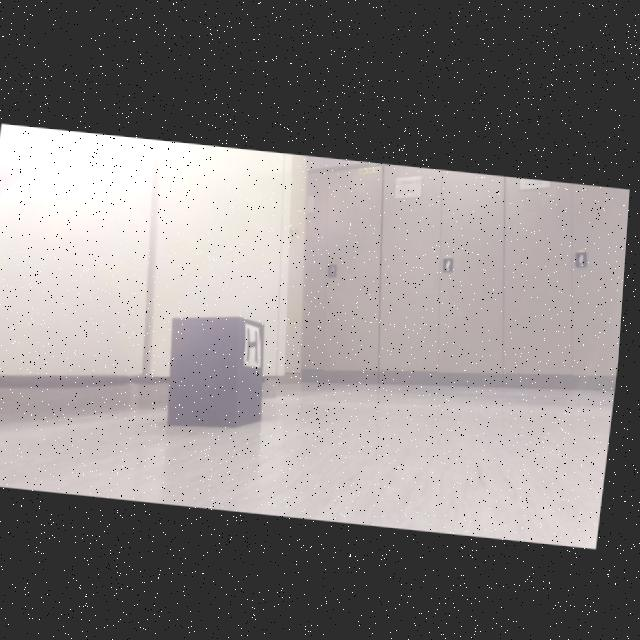H: (252, 326, 263, 359)
